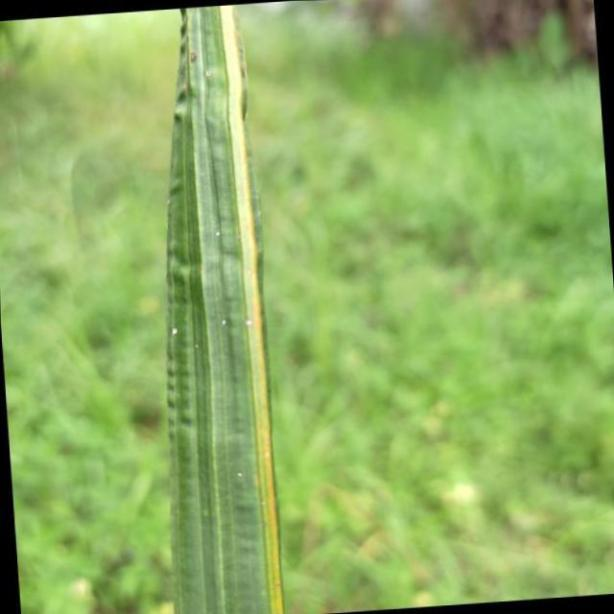Boron: (166, 1, 282, 614)
